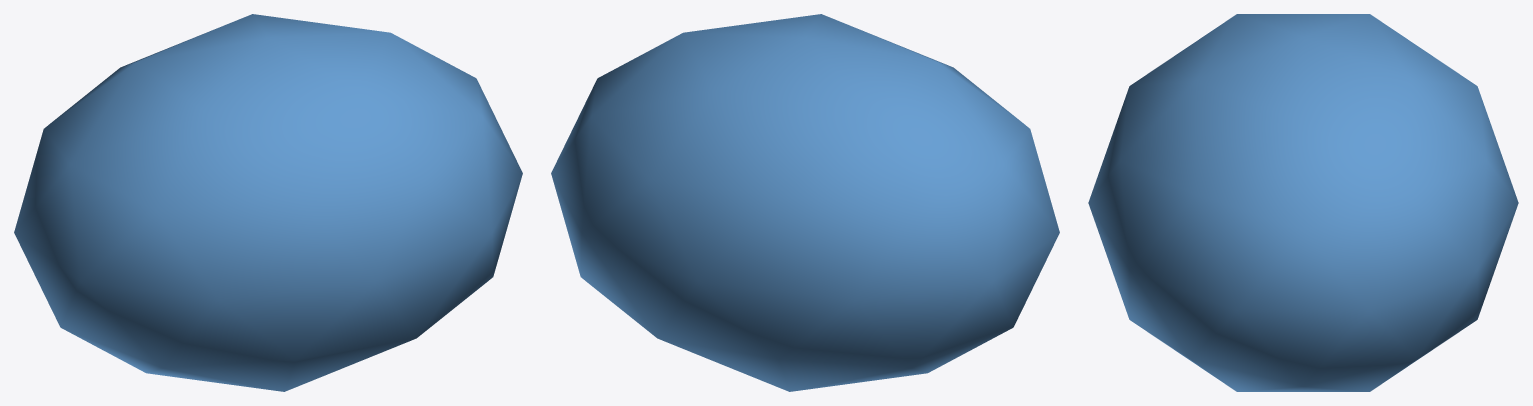
File: Rock.fbx
3 renders of one model, left to right at view 1: azimuth 30°, elevation 25°; view 2: azimuth 150°, elevation 25°; view 3: azimuth 270°, elevation 25°, orthographic.
Parts seen in each view (by area): view 1: Rock; view 2: Rock; view 3: Rock.
Part boxes in pixels (x1=…): Rock: x1=14, y1=14, x2=522, y2=391; Rock: x1=551, y1=14, x2=1059, y2=391; Rock: x1=1088, y1=14, x2=1518, y2=391.
Bounding box in the file's own units: 74.37 × 53.04 × 62.56.
